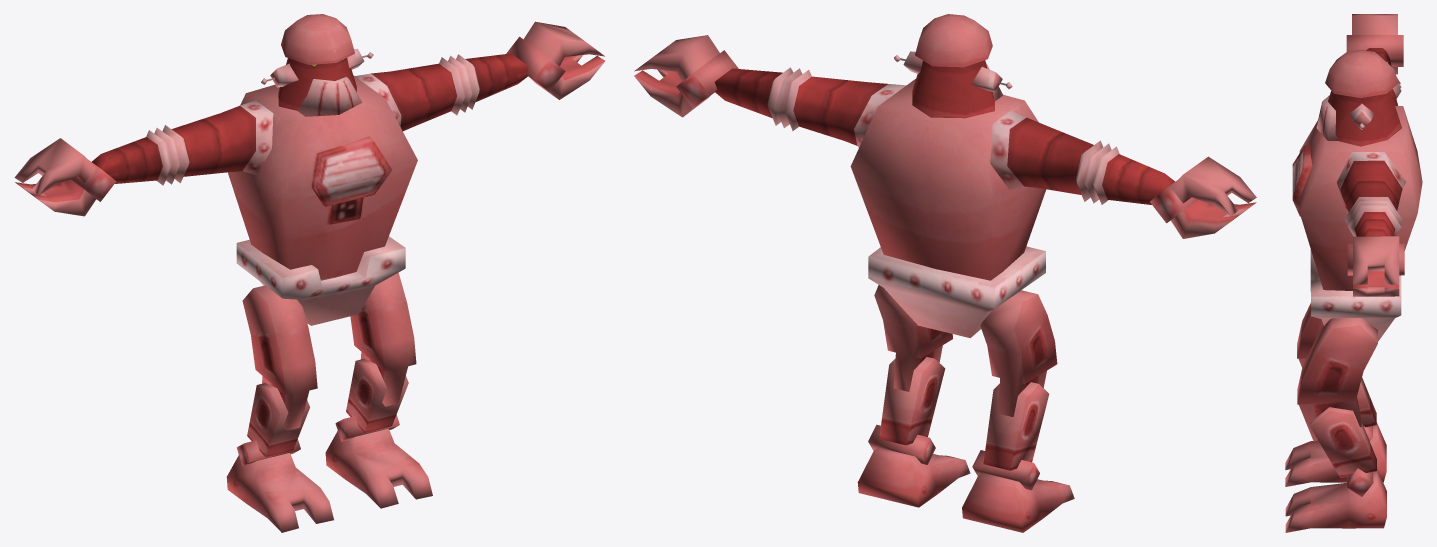
Rendered from robot.obj.
3 views of the same model, side by side, from view 1: azimuth 30°, elevation 25°; view 2: azimuth 150°, elevation 25°; view 3: azimuth 270°, elevation 25° (orthographic). The views are drawn at different scales.
Parts seen in each view (by area): view 1: mesh0487; view 2: mesh0487; view 3: mesh0487.
Part boxes in pixels (x1,y1,x2,y2): mesh0487: [14, 14, 604, 532]; mesh0487: [634, 14, 1256, 532]; mesh0487: [1285, 14, 1422, 532].
Size of the model in its own units: 2.77 by 2.19 by 0.6116.
1 material, 1 textured.
